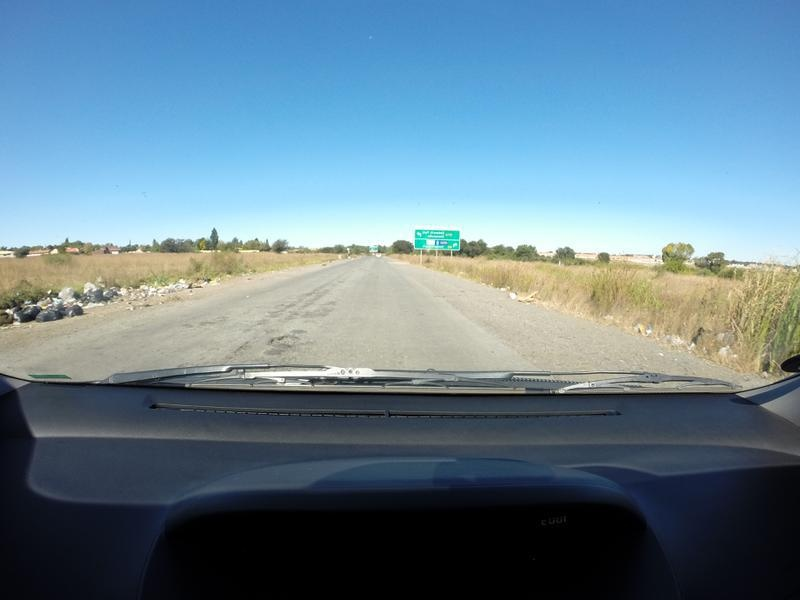pothole: (257, 324, 303, 356)
